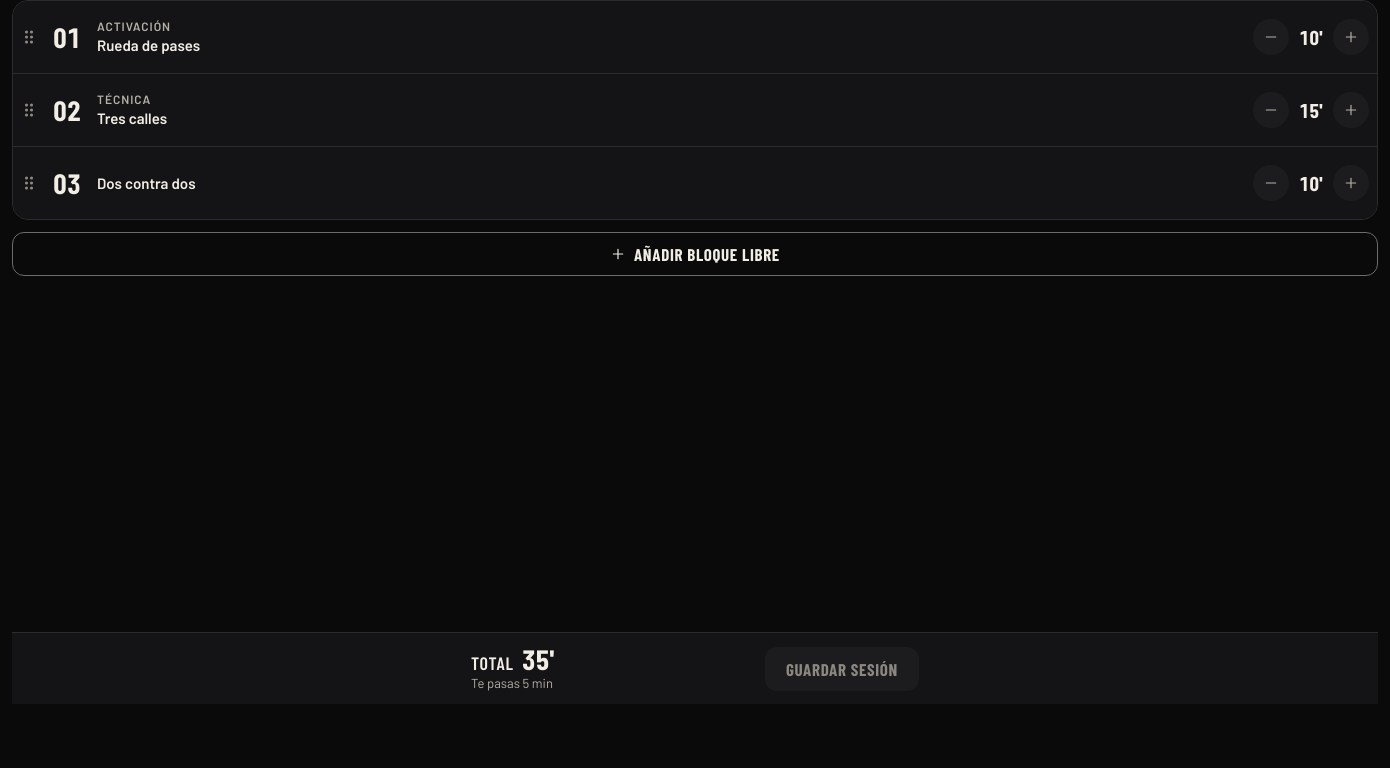
Scenario: PracticeBuilder · encaje con la franja › solo avisa: pasarse de la franja no impide guardar, y la franja no se envía
The image size is (1390, 768).
Step 1. Click the button named "Más minutos, Rueda de pases" → [1351, 37], box [1329,15,1373,59]
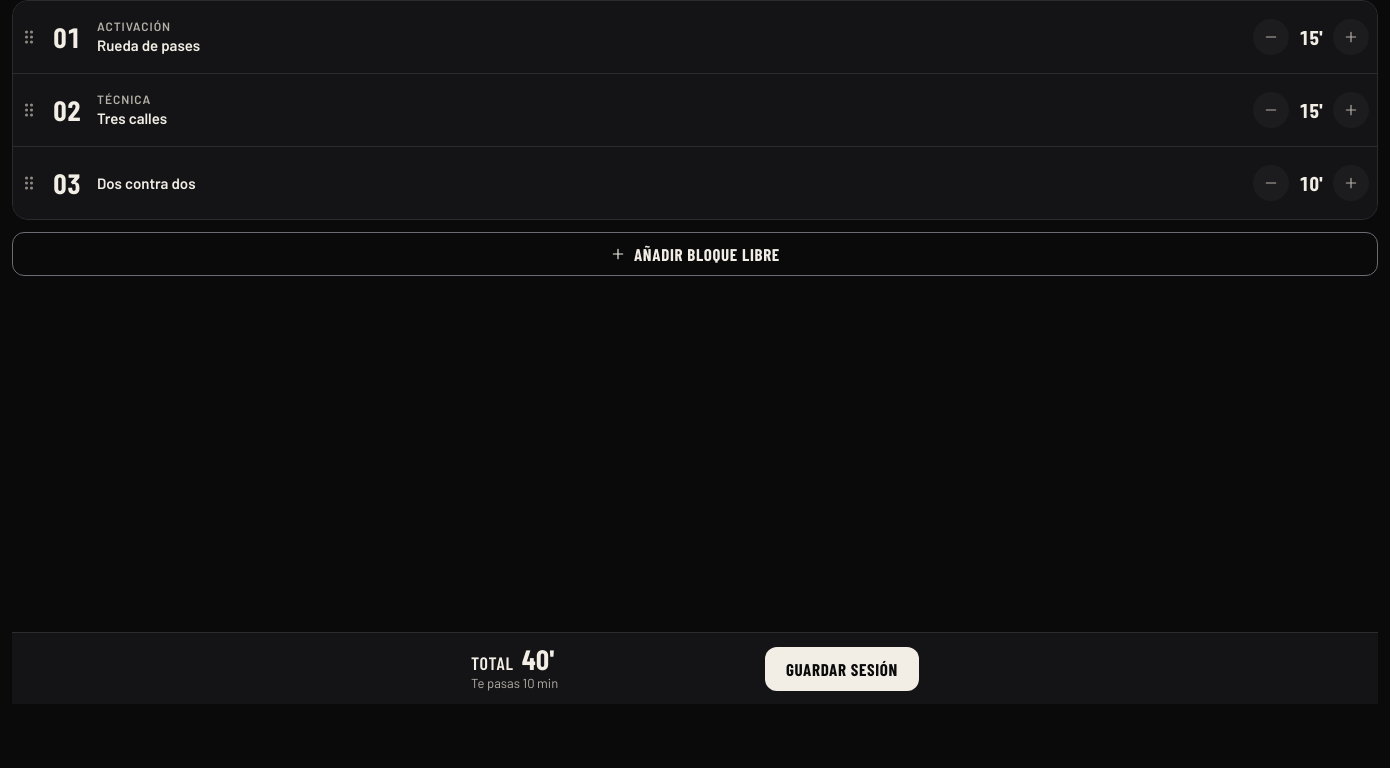
expect the text "Te pasas 10 min" is shown: met, box [471,674,558,692]
expect the button "Guardar sesión" is enabled: met
Step 2. Click the button "Guardar sesión" → [842, 668], box [765,646,919,690]
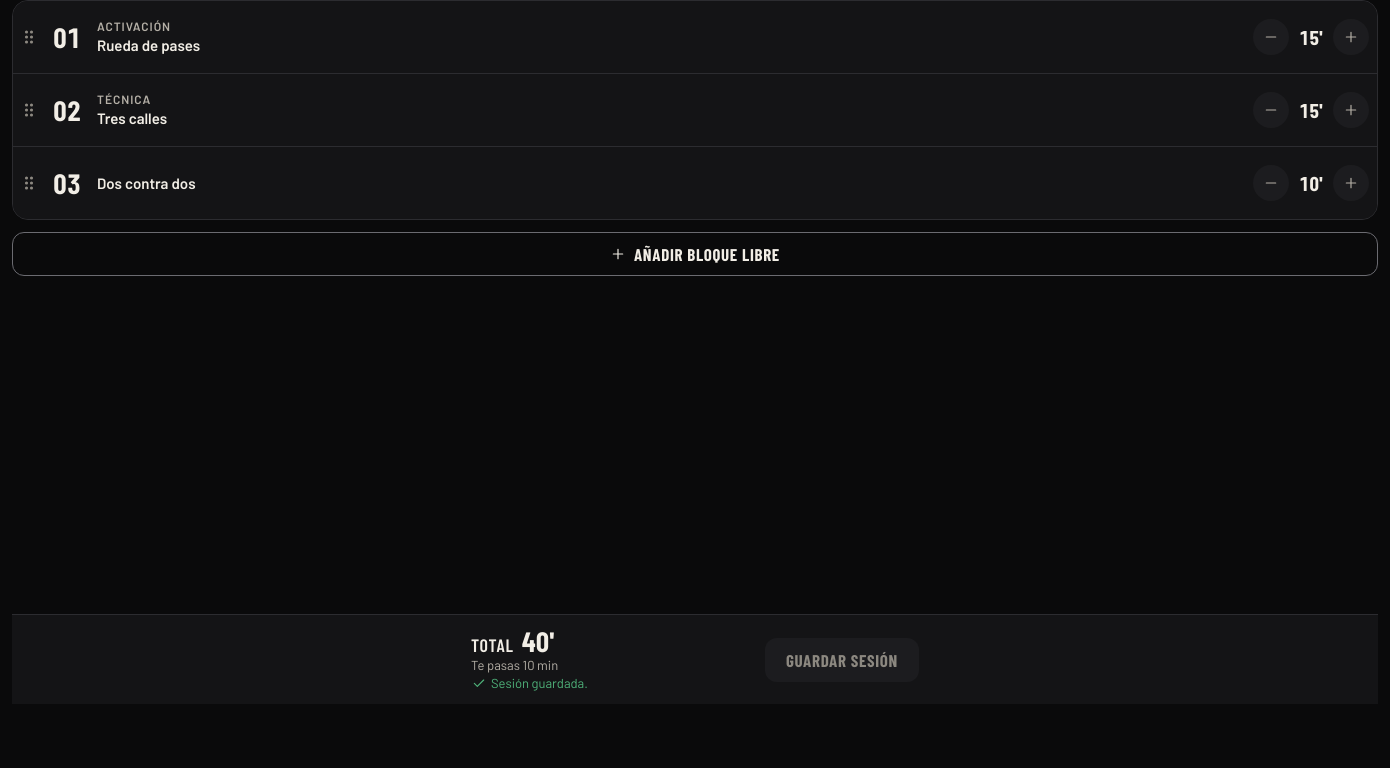
expect the text "Te pasas 10 min" is shown: met, box [471,657,558,673]
expect the text "Sesión guardada." is shown: met, box [471,674,588,692]
